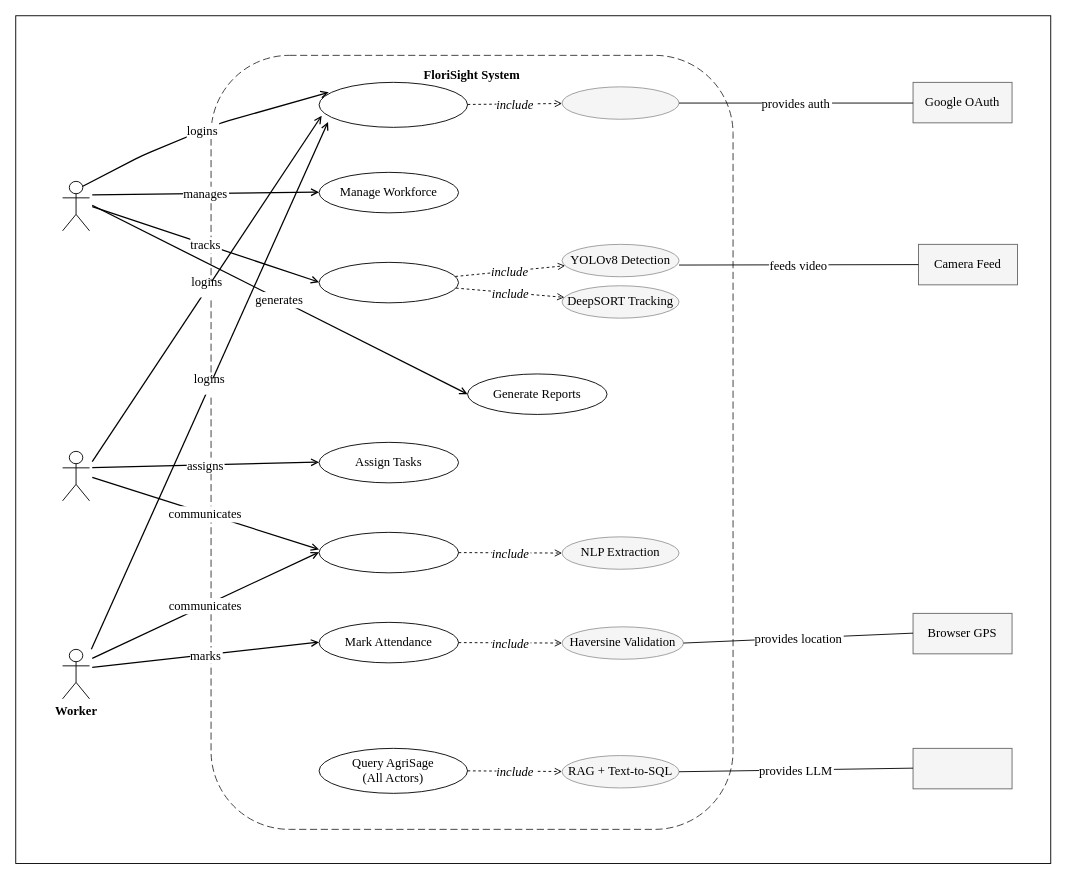
The diagram is 1067 pixels wide and 879 high, and some of its shapes have lost their labels. Each missing label, with the box of its shape:
Admin: (62, 180, 90, 231)
Gemini API: (912, 747, 1012, 789)
Login / Authenticate (All Actors): (318, 81, 468, 127)
Send Chat Messages: (318, 531, 459, 573)
Supervisor: (62, 450, 90, 501)
Track Visitors: (318, 261, 459, 303)
Verify Google OAuth: (561, 86, 679, 119)
